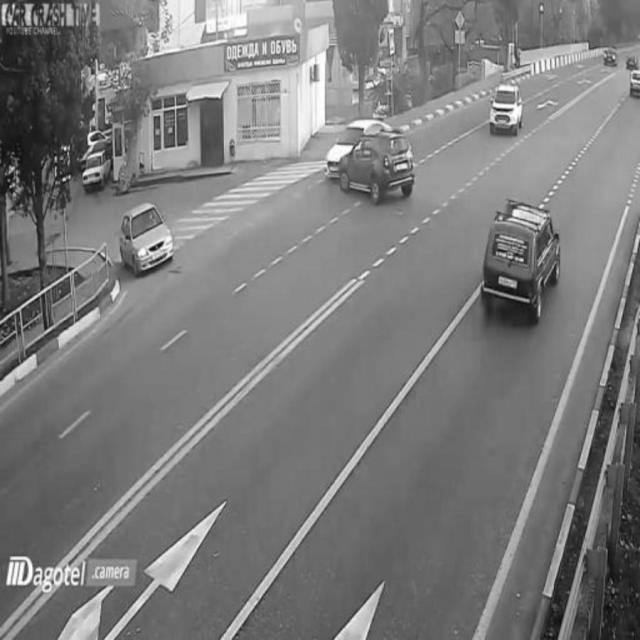accident: (321, 114, 414, 197)
vehicle: (483, 200, 566, 320), (119, 204, 174, 277), (489, 80, 525, 138), (82, 140, 112, 194), (601, 41, 619, 69), (628, 62, 640, 98)
